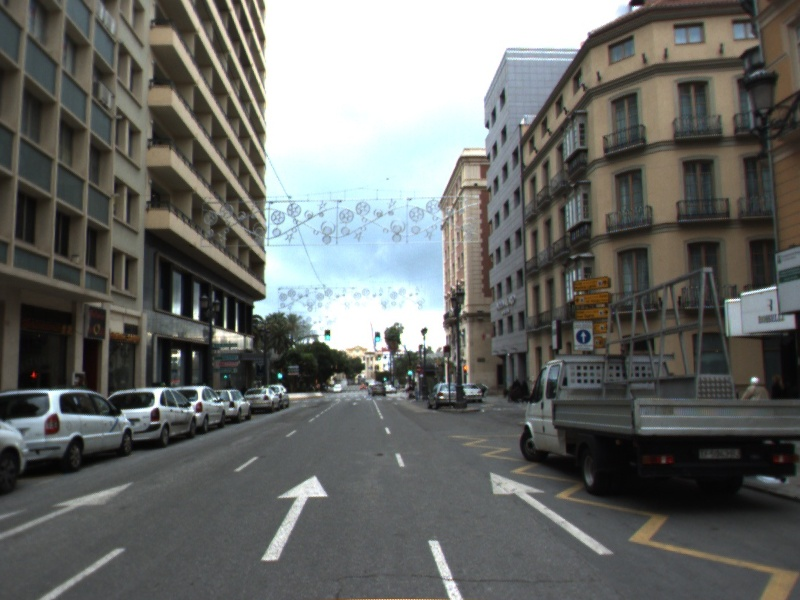STRAIGHT: (487, 469, 618, 557), (1, 477, 138, 544), (257, 471, 333, 564)
